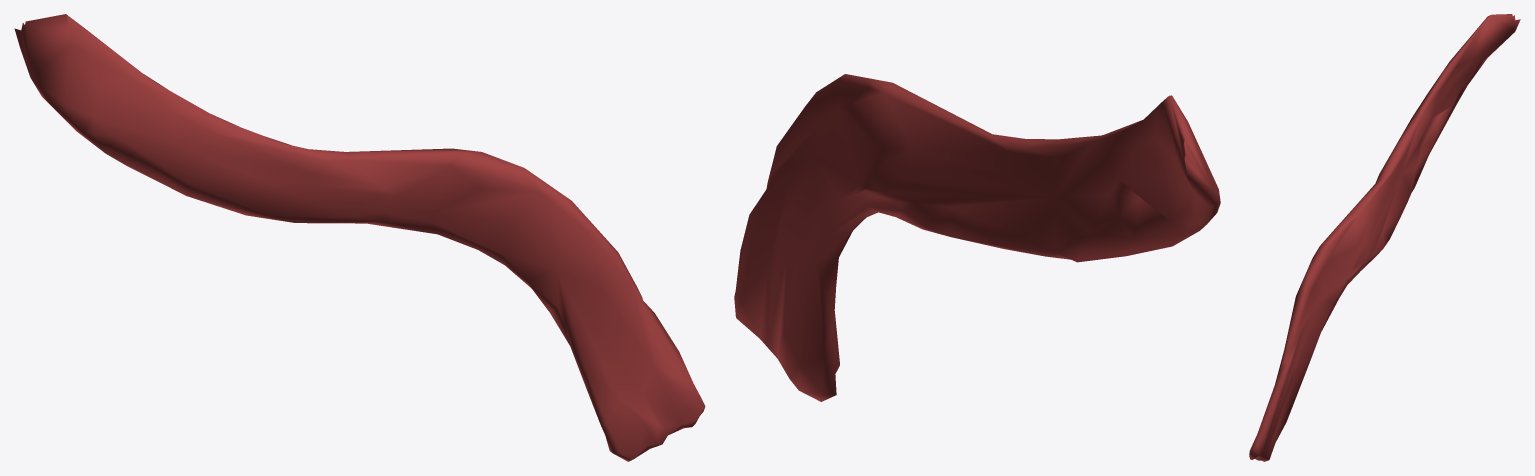
File: zygomaticus-minor-muscle-r.glb
3 views of the same model, side by side, from view 1: azimuth 30°, elevation 25°; view 2: azimuth 150°, elevation 25°; view 3: azimuth 270°, elevation 25° (orthographic). The views are drawn at different scales.
Parts seen in each view (by area): view 1: Zygomaticus minor muscle.r; view 2: Zygomaticus minor muscle.r; view 3: Zygomaticus minor muscle.r.
Part boxes in pixels (x1=…): Zygomaticus minor muscle.r: x1=14, y1=14, x2=705, y2=461; Zygomaticus minor muscle.r: x1=734, y1=74, x2=1220, y2=401; Zygomaticus minor muscle.r: x1=1249, y1=14, x2=1520, y2=461.
Bounding box in the file's own units: 0.0376 × 0.0306 × 0.0246.
